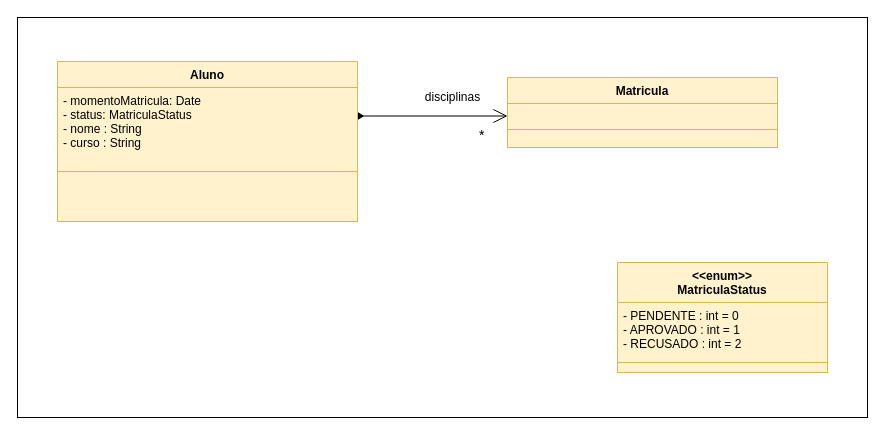
Some shapes in this 885 by 435 pixel diagram are drawn without their labels. Here are the shapes that lost their labels. From the top down, the centre of each, then its label:
(642,116): - materias: String
(207,196): + addCurso(curso : String) : void + addDisciplina(disciplina : Matricula) : void
